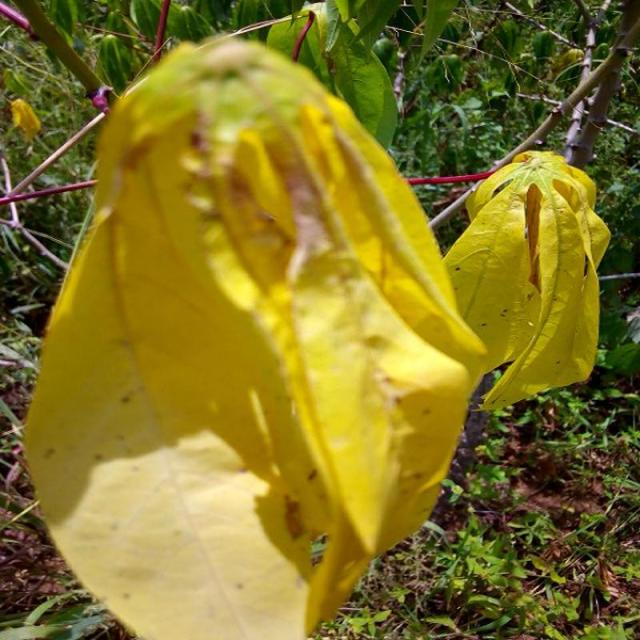cassava leaf: (22, 33, 492, 638), (442, 148, 612, 413)
